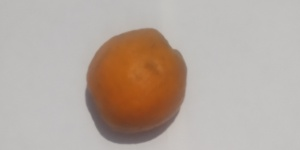BAD: (84, 25, 188, 136)
